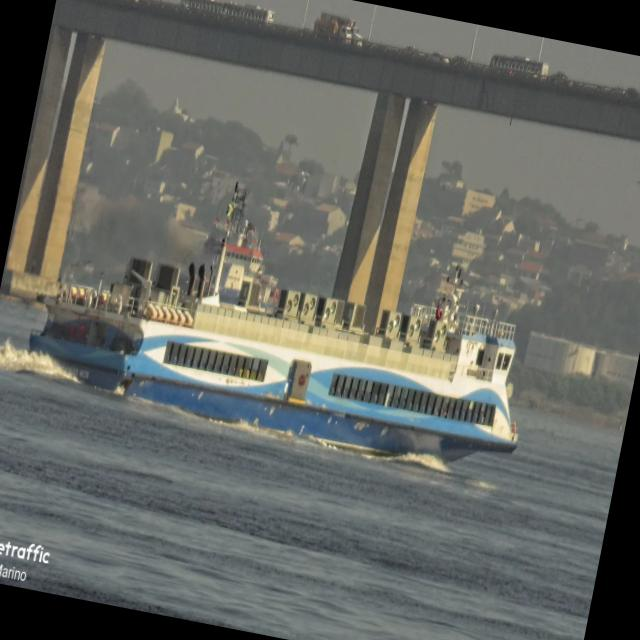Passenger: (30, 186, 517, 461)
